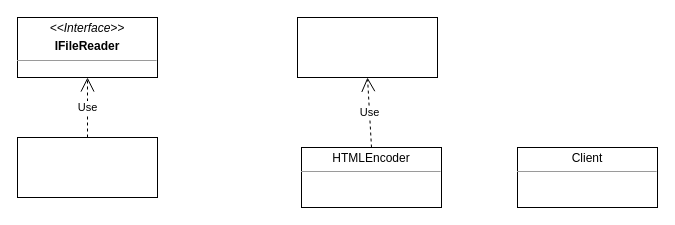
This 675x225 diagram has some shape labels left out. Each missing label, with the centre of its shape:
"<<Interface>> IHTMLEncoder" belongs at (367,47).
"FileReader" belongs at (87,167).
